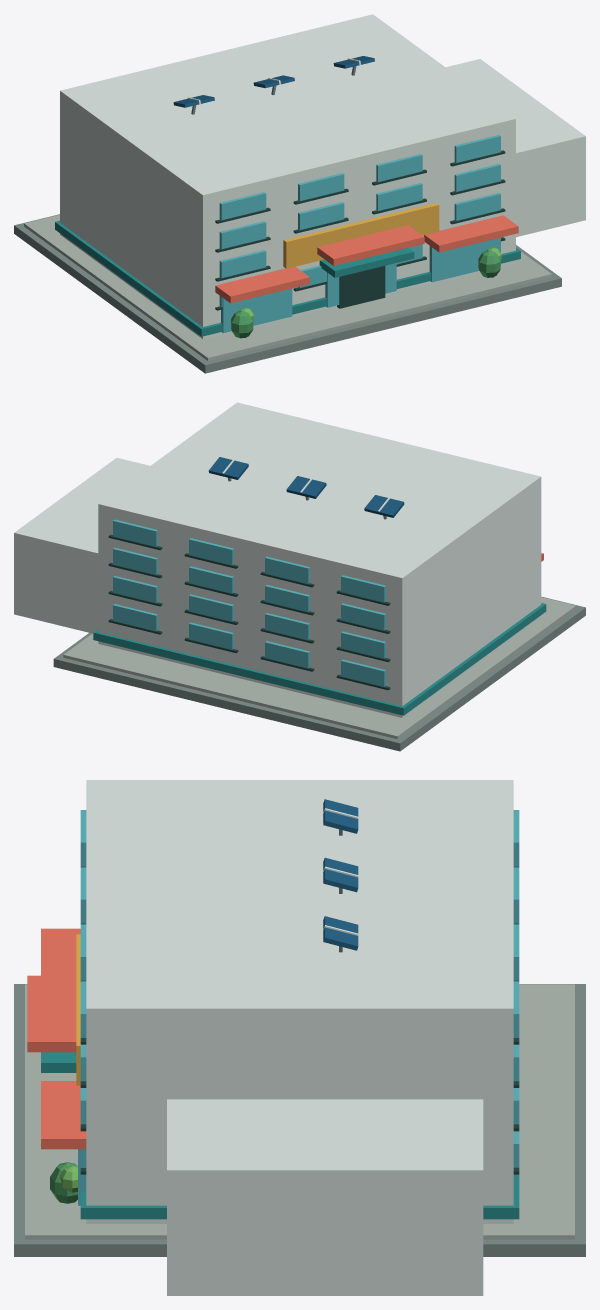
The model's file is supermarket_lv4.glb.
3 views of the same model, one above another, from view 1: azimuth 30°, elevation 25°; view 2: azimuth 150°, elevation 25°; view 3: azimuth 270°, elevation 25° (orthographic). The views are drawn at different scales.
Visible parts, largest first — view 1: white, glass, concrete, pavement, coral, teal, dark, gold, green, solar; view 2: white, glass, concrete, pavement, teal, dark, solar; view 3: white, concrete, pavement, coral, glass, teal, solar, gold.
Boxes of the visible parts, left/top/right/bottom form: white: left=60, top=14, right=585, bottom=338; glass: left=219, top=135, right=500, bottom=333; concrete: left=24, top=214, right=551, bottom=360; pavement: left=14, top=214, right=561, bottom=373; coral: left=215, top=215, right=518, bottom=303; teal: left=55, top=220, right=520, bottom=336; dark: left=215, top=150, right=505, bottom=310; gold: left=283, top=203, right=439, bottom=268; green: left=231, top=250, right=500, bottom=338; solar: left=173, top=56, right=374, bottom=107; white: left=14, top=402, right=541, bottom=717; glass: left=113, top=519, right=385, bottom=686; concrete: left=63, top=597, right=576, bottom=739; pavement: left=53, top=596, right=585, bottom=751; teal: left=93, top=603, right=546, bottom=715; dark: left=108, top=534, right=390, bottom=690; solar: left=208, top=457, right=404, bottom=517; white: left=86, top=780, right=513, bottom=1295; concrete: left=25, top=984, right=574, bottom=1239; pavement: left=14, top=984, right=585, bottom=1256; coral: left=27, top=928, right=86, bottom=1149; glass: left=78, top=810, right=519, bottom=1205; teal: left=41, top=1052, right=519, bottom=1219; solar: left=323, top=799, right=358, bottom=950; gold: left=76, top=934, right=80, bottom=1085.
Bounding box in the file's own units: 11.87 × 4.56 × 9.1.
